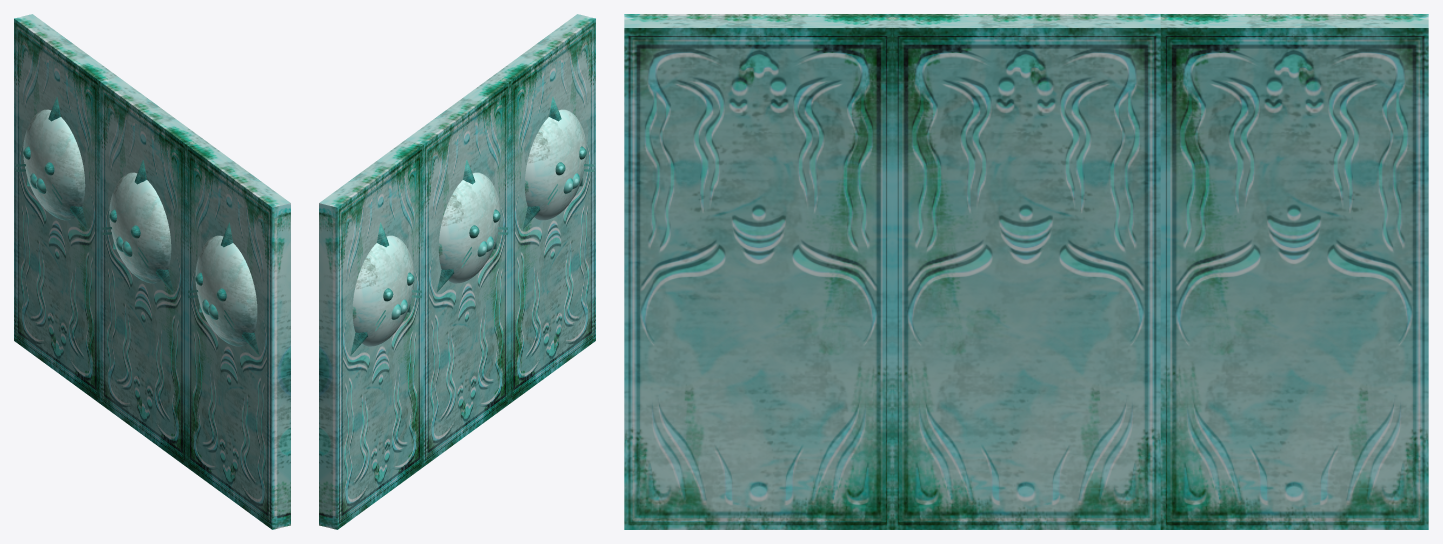
The model's file is enemy_wall.fbx.
3 views of the same model, side by side, from view 1: azimuth 30°, elevation 25°; view 2: azimuth 150°, elevation 25°; view 3: azimuth 270°, elevation 25° (orthographic). The views are drawn at different scales.
Visible parts, largest first — view 1: enemywall_mdl; view 2: enemywall_mdl; view 3: enemywall_mdl.
Part boxes in pixels (x1,y1,x2,y2): enemywall_mdl: (14,14,290,529); enemywall_mdl: (319,14,595,529); enemywall_mdl: (624,14,1428,529).
Size of the model in its own units: 134 by 994 by 1444.
Materials: 1 (1 with a texture image).
